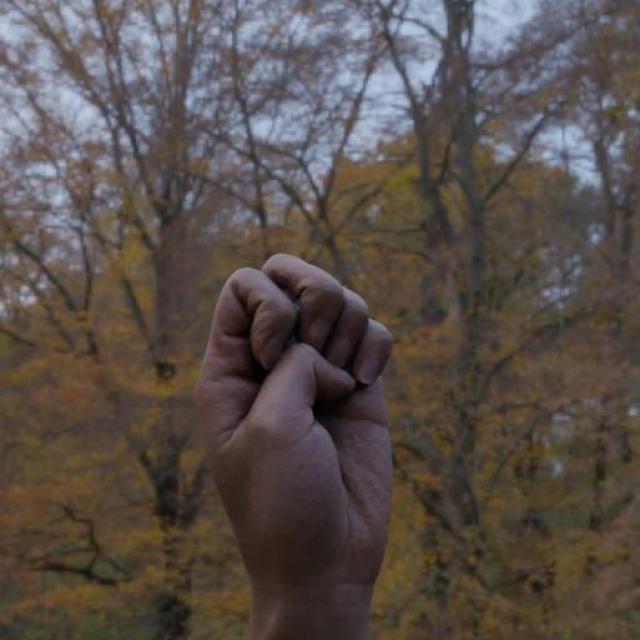E: (189, 246, 399, 603)
